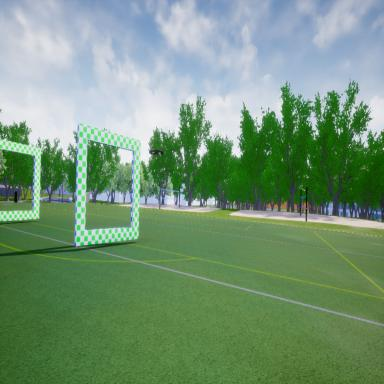gate: (72, 118, 142, 254)
